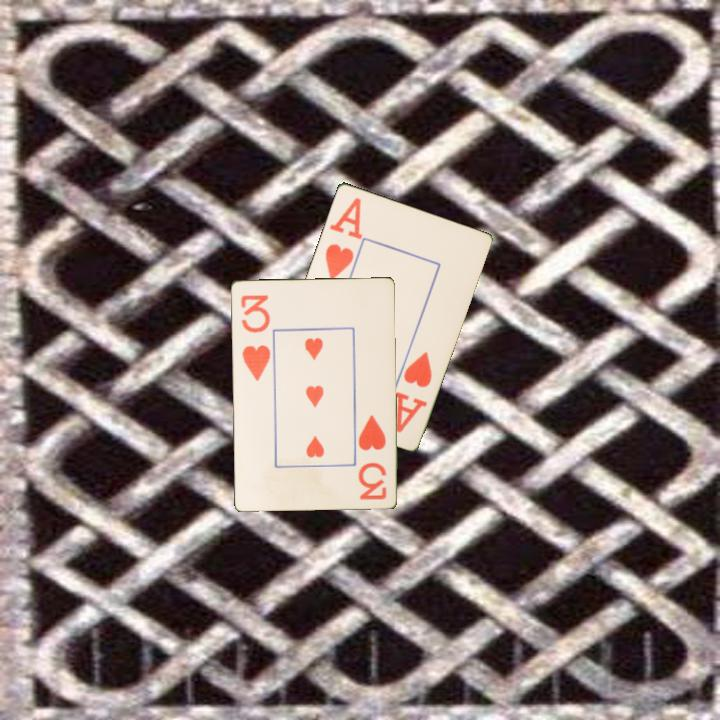3h: (237, 291, 273, 383), (355, 411, 389, 502)
Ah: (321, 193, 365, 283), (392, 348, 435, 435)
